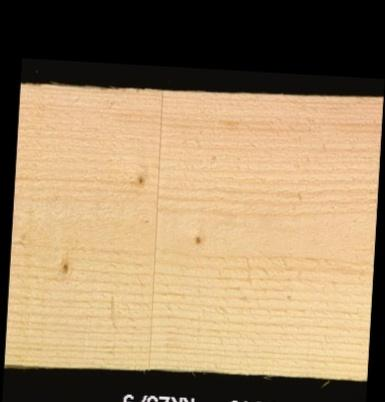small_knot: (50, 257, 74, 277), (128, 170, 147, 189), (187, 231, 206, 247)
